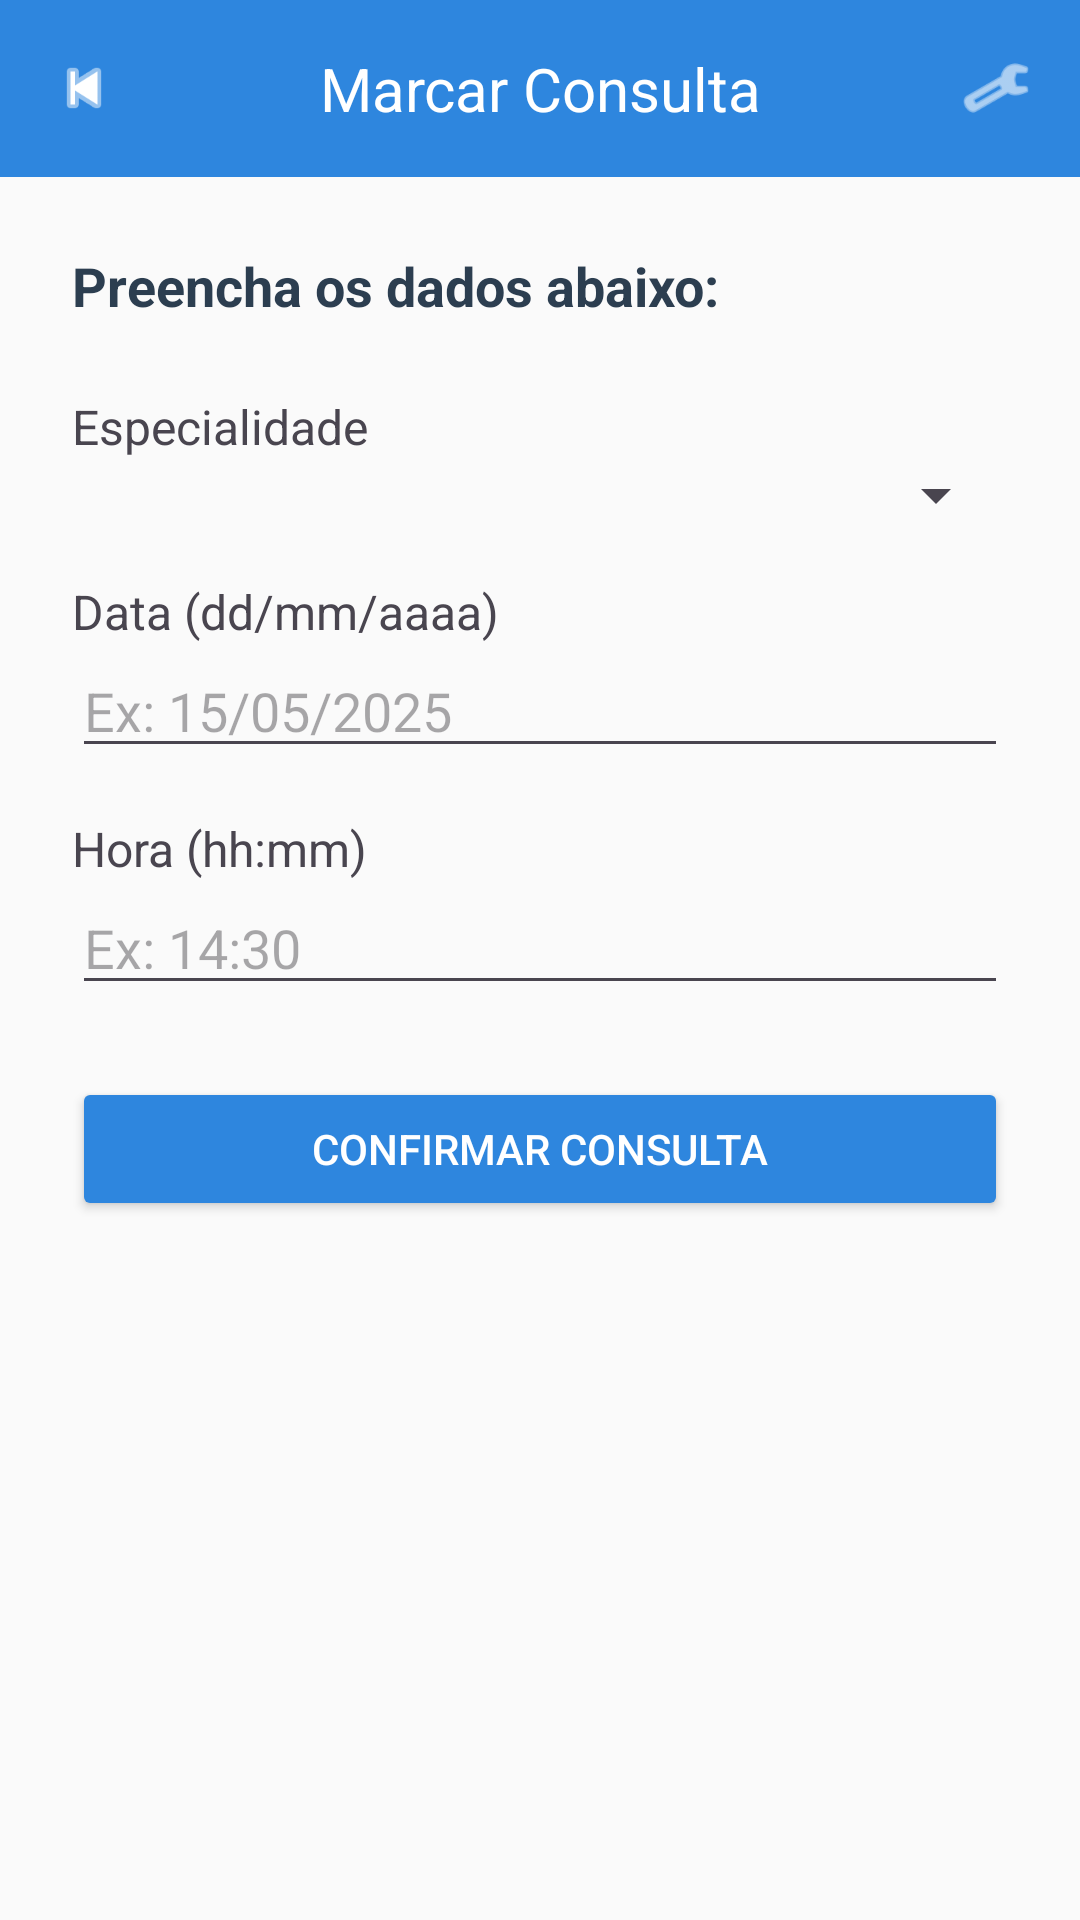

Screen size 1080*1920. Icon name, then its box in pixels as (x1, y1, x2, y2):
preferences: (964, 63, 1028, 113)
previous: (67, 68, 101, 108)
